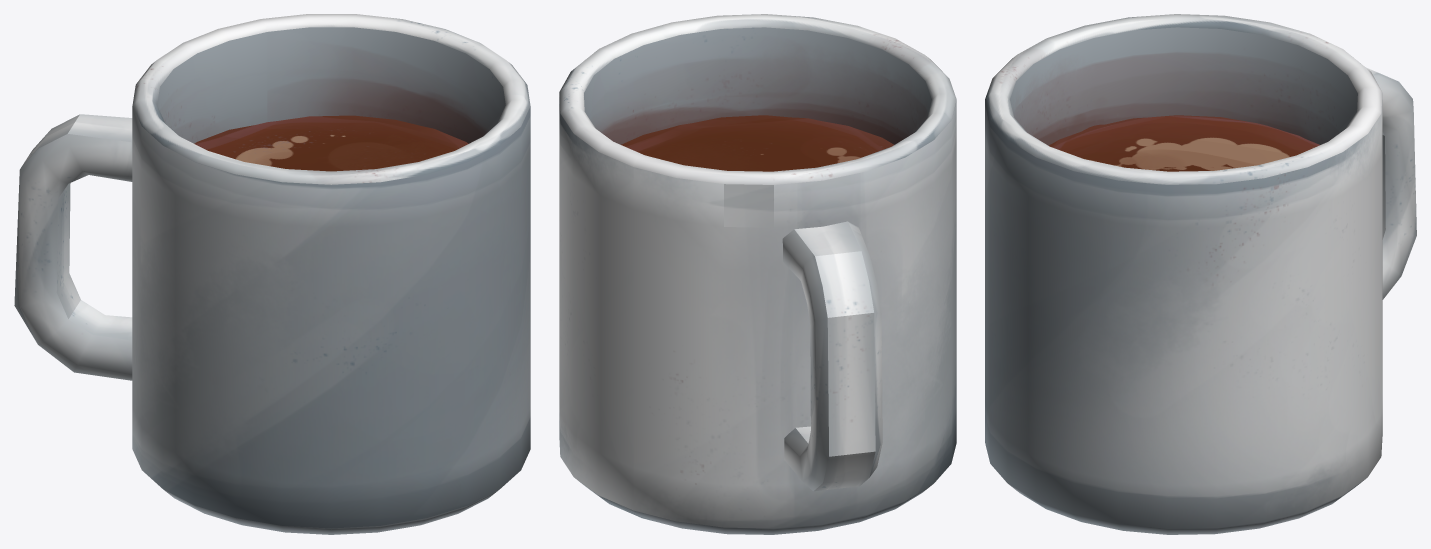
File: tasse.gltf
The picture shows the model from 3 angles, left to right: view 1: azimuth 30°, elevation 25°; view 2: azimuth 150°, elevation 25°; view 3: azimuth 270°, elevation 25°; orthographic projection.
Visible parts, largest first — view 1: Cup, Handle.002, Liquid; view 2: Cup, Handle.002, Liquid; view 3: Cup, Liquid, Handle.002.
Boxes of the visible parts, x1,y1,x2,y2 form: Cup: (132, 14, 530, 534); Handle.002: (14, 114, 132, 380); Liquid: (194, 115, 468, 171); Cup: (559, 14, 956, 534); Handle.002: (782, 221, 882, 491); Liquid: (621, 115, 893, 171); Cup: (985, 14, 1382, 534); Liquid: (1049, 115, 1319, 171); Handle.002: (1366, 67, 1416, 299).
Size of the model in its own units: 1.54 by 1.37 by 1.48.
1 material, 1 textured.
